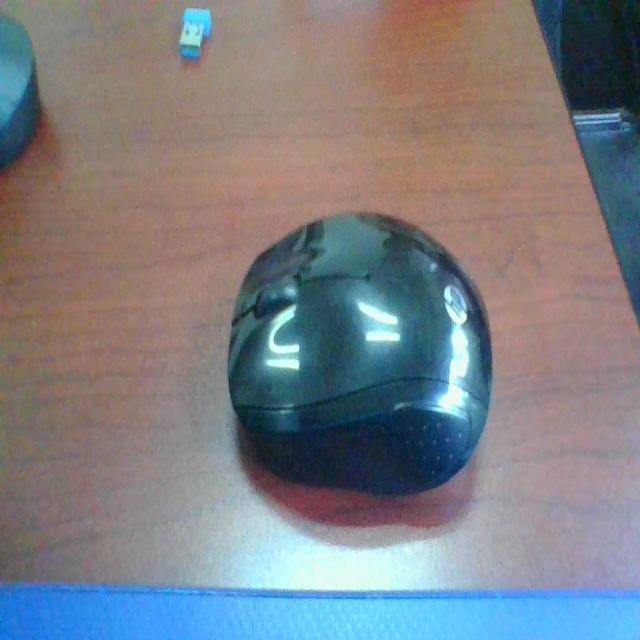mouse: (214, 198, 514, 506)
